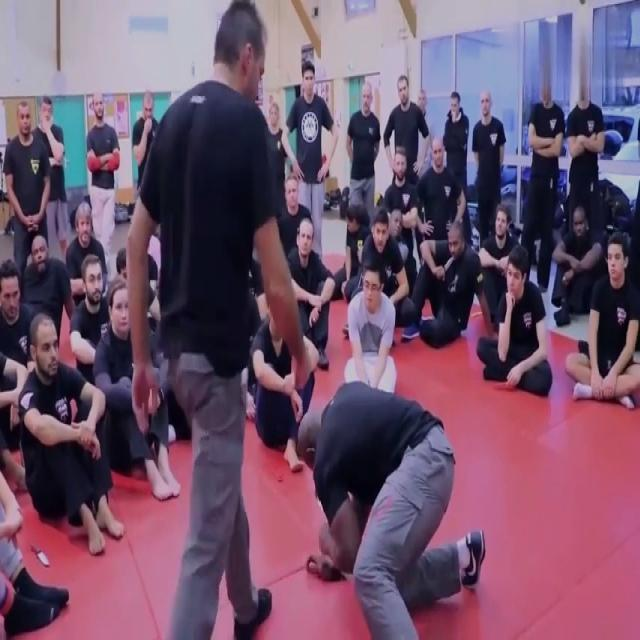fight: (121, 0, 490, 640)
non-fight: (11, 307, 119, 557), (94, 281, 184, 503), (474, 241, 556, 399), (281, 54, 341, 262), (400, 217, 495, 347), (246, 298, 315, 472), (578, 227, 639, 412), (518, 82, 569, 290), (0, 90, 52, 276), (0, 258, 42, 487), (338, 251, 399, 396), (287, 213, 337, 374), (548, 199, 608, 327), (84, 91, 123, 285), (468, 88, 510, 256), (343, 203, 410, 307), (405, 132, 466, 240), (22, 233, 76, 355), (33, 91, 71, 260), (344, 79, 382, 230), (564, 66, 606, 200), (383, 143, 420, 295), (383, 70, 430, 185), (64, 195, 110, 308), (440, 90, 470, 204), (131, 79, 159, 197)
